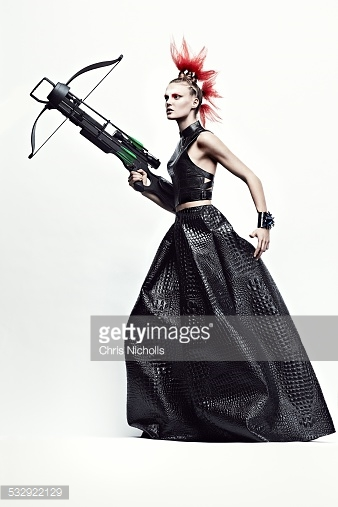em pe: (82, 59, 284, 333)
